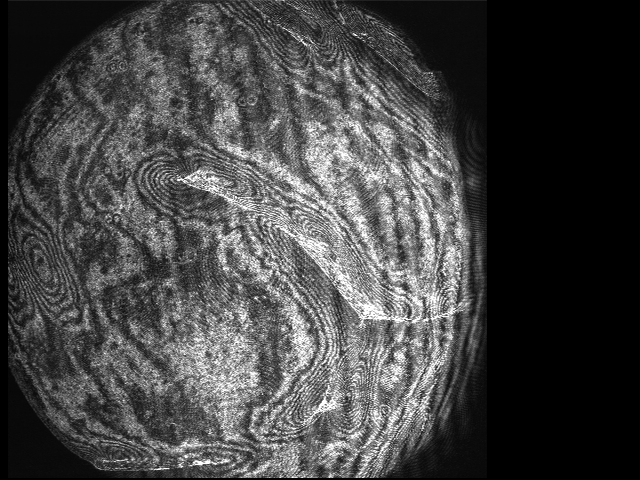plume: (136, 151, 278, 215)
